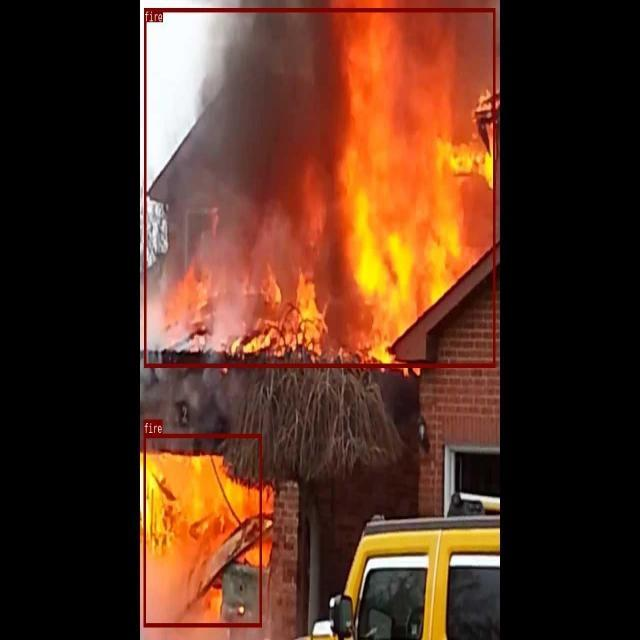fire: (144, 8, 495, 366), (143, 434, 262, 627)
